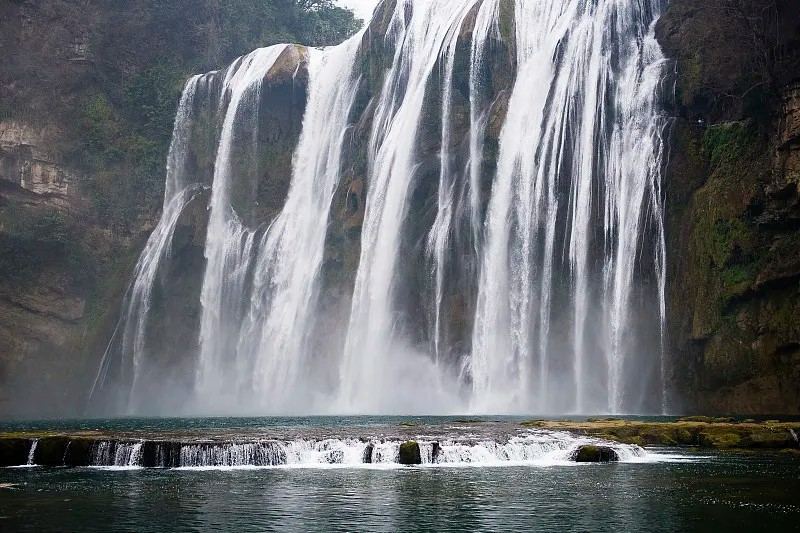Huangguoshu: (102, 1, 665, 414)
